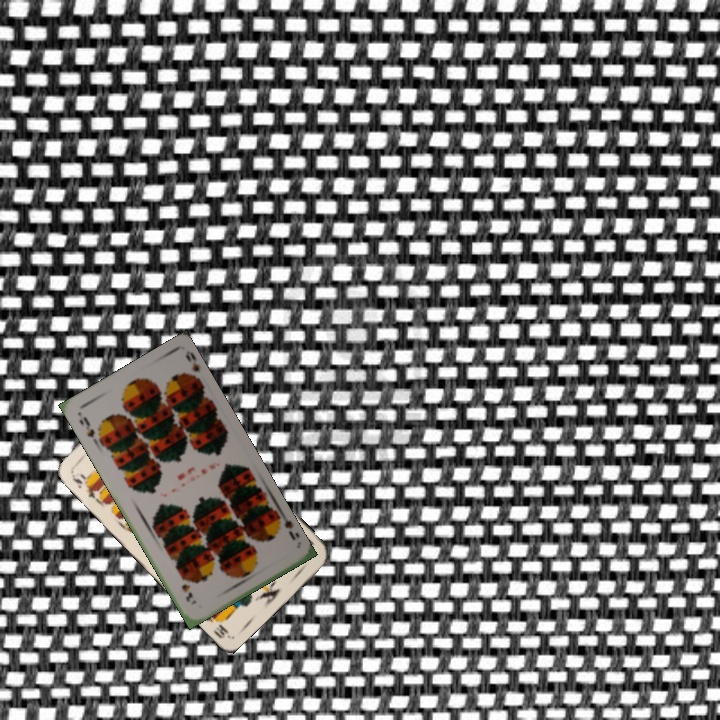E10: (68, 468, 101, 502)
S9: (270, 509, 298, 543), (75, 413, 103, 447)
